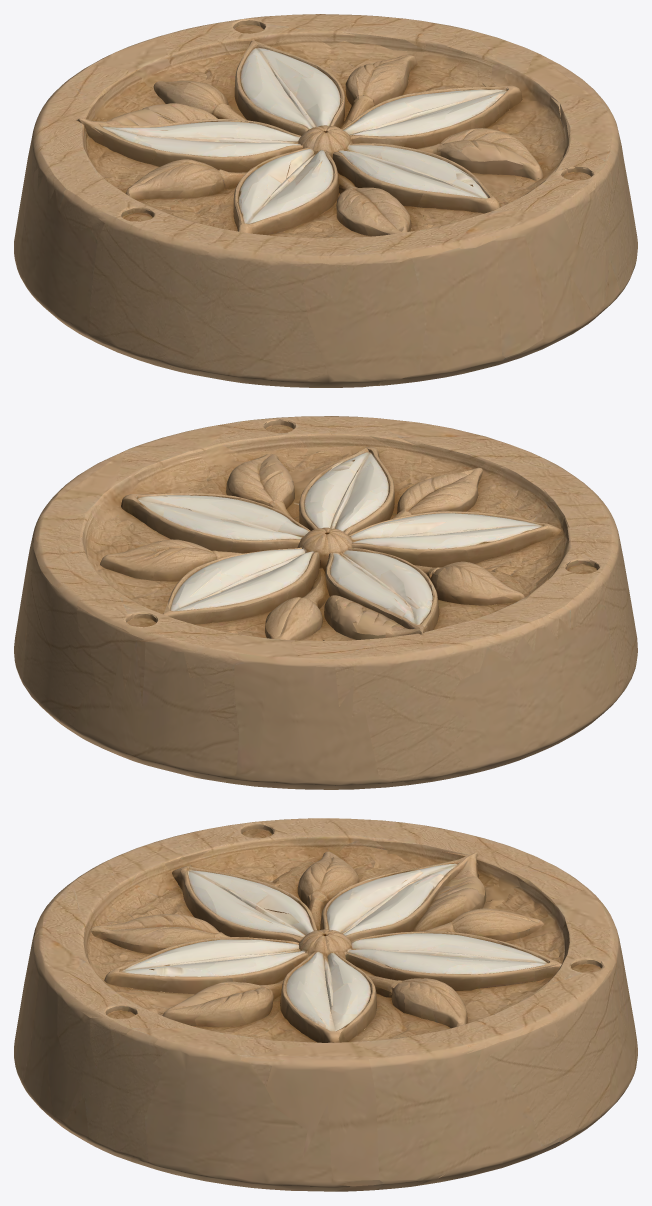
3 renders of one model, top to bottom at view 1: azimuth 30°, elevation 25°; view 2: azimuth 150°, elevation 25°; view 3: azimuth 270°, elevation 25°, orthographic.
Visible parts, largest first — view 1: Mesh_0; view 2: Mesh_0; view 3: Mesh_0.
Part boxes in pixels (left/top/right/bottom): Mesh_0: left=14, top=14, right=637, bottom=387; Mesh_0: left=14, top=416, right=637, bottom=789; Mesh_0: left=14, top=818, right=637, bottom=1191.
Bounding box in the file's own units: 1.9 × 0.4403 × 1.9.
Materials: 1 (1 with a texture image).
